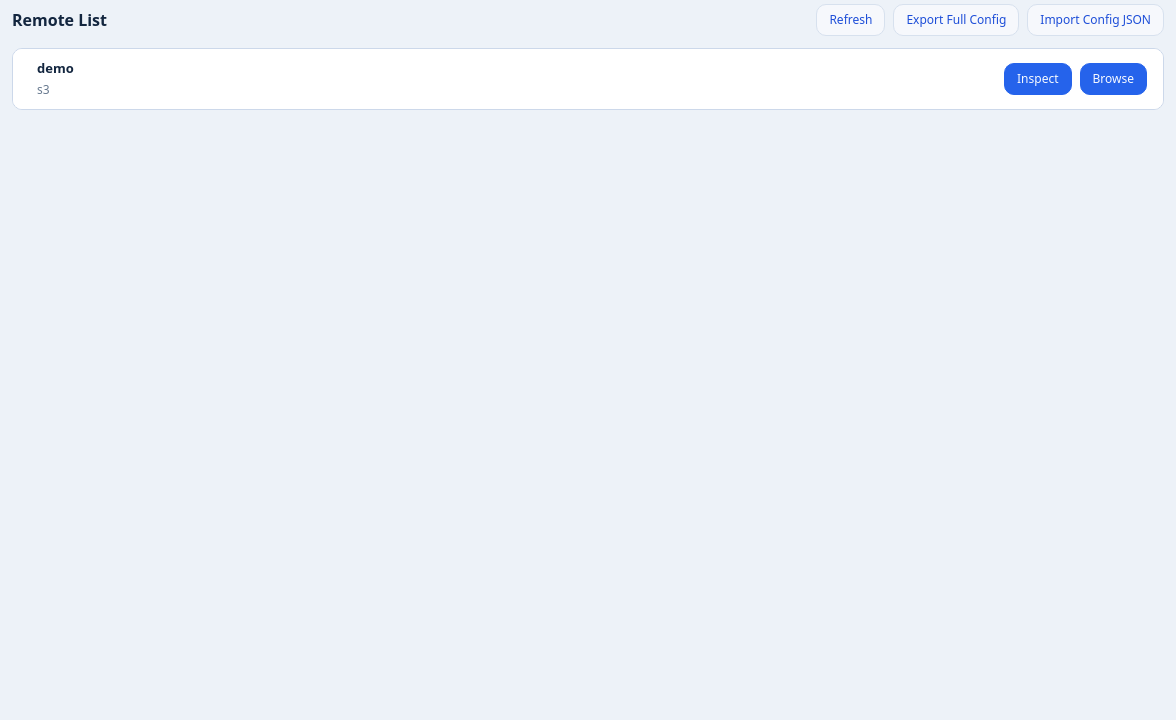
Scenario: RemotesPage › renders remote detail after inspect is selected
Click the button "Inspect": (1038, 79) [1004,63,1072,95]
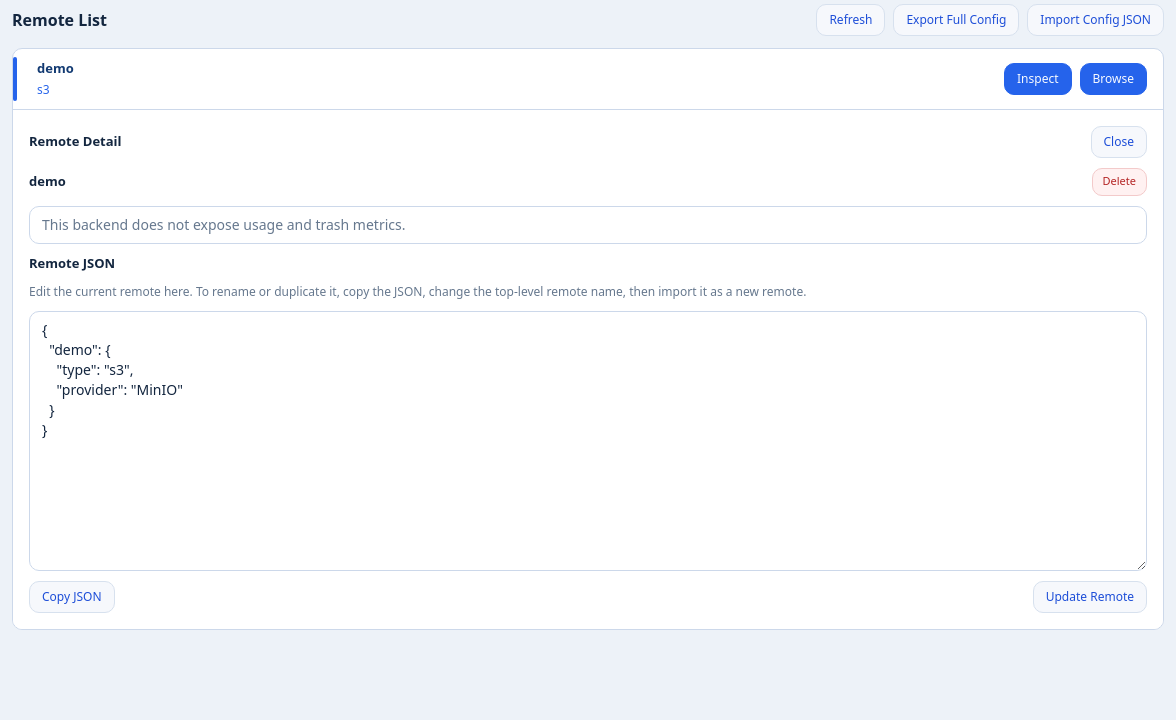
Expected: the 1st text "demo" is shown, [37,59,74,77]
Expected: the text "Remote JSON" is shown, [29,254,115,272]
Expected: the text box "\"provider\": \"MinIO\"" is shown, [29,311,1147,571]
